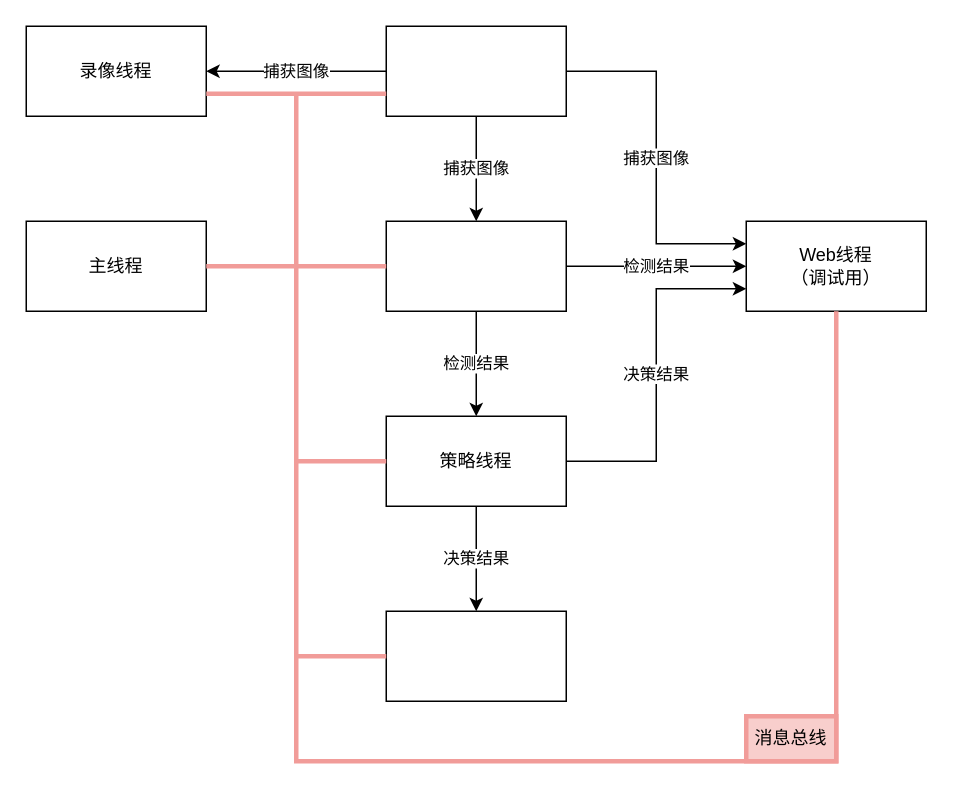
Some shapes in this 953 by 791 pixel diagram are drawn without their labels. Each missing label, with the centre of its shape:
"捕获线程" goes at point 475,70.
"识别线程" goes at point 475,265.
"通信线程" goes at point 475,655.
